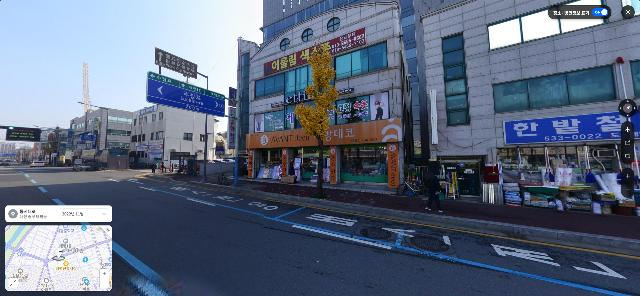ginkgo: (294, 35, 339, 198)
